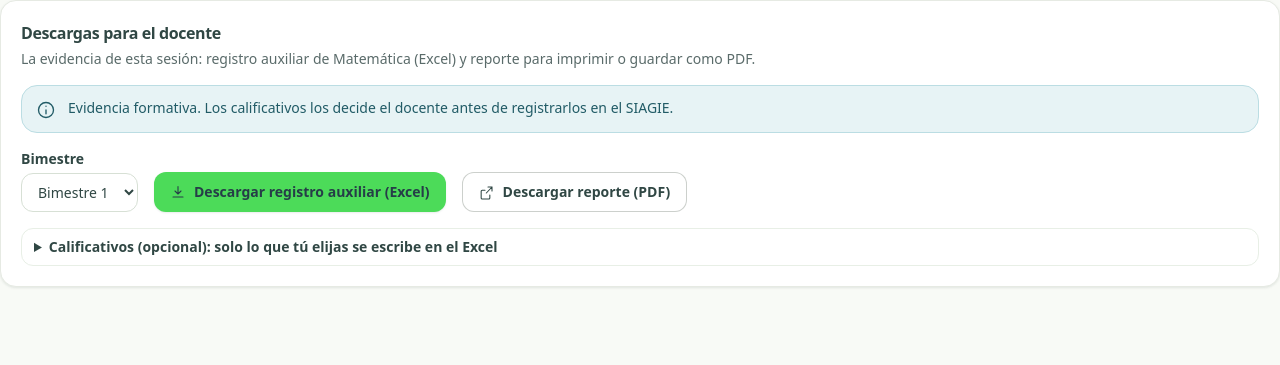
Test case: RegistroAuxiliar: reporte en PDF › opens the printable report with the session, and tells the teacher to choose "Guardar como PDF"
The image size is (1280, 365).
Click the button "Descargar reporte (PDF)" at coordinates (574, 192), box [462, 172, 687, 212]
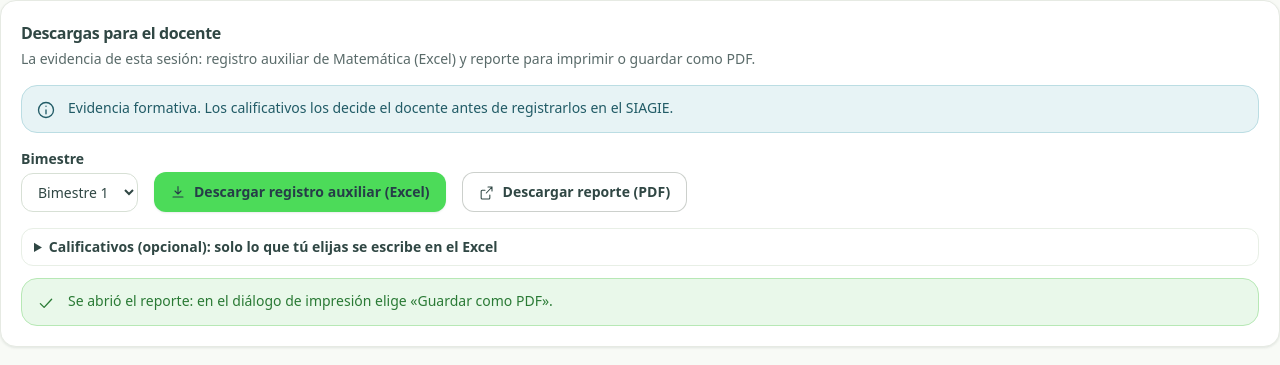
Check: the text "Guardar como PDF" is shown, box [68, 291, 553, 310]
